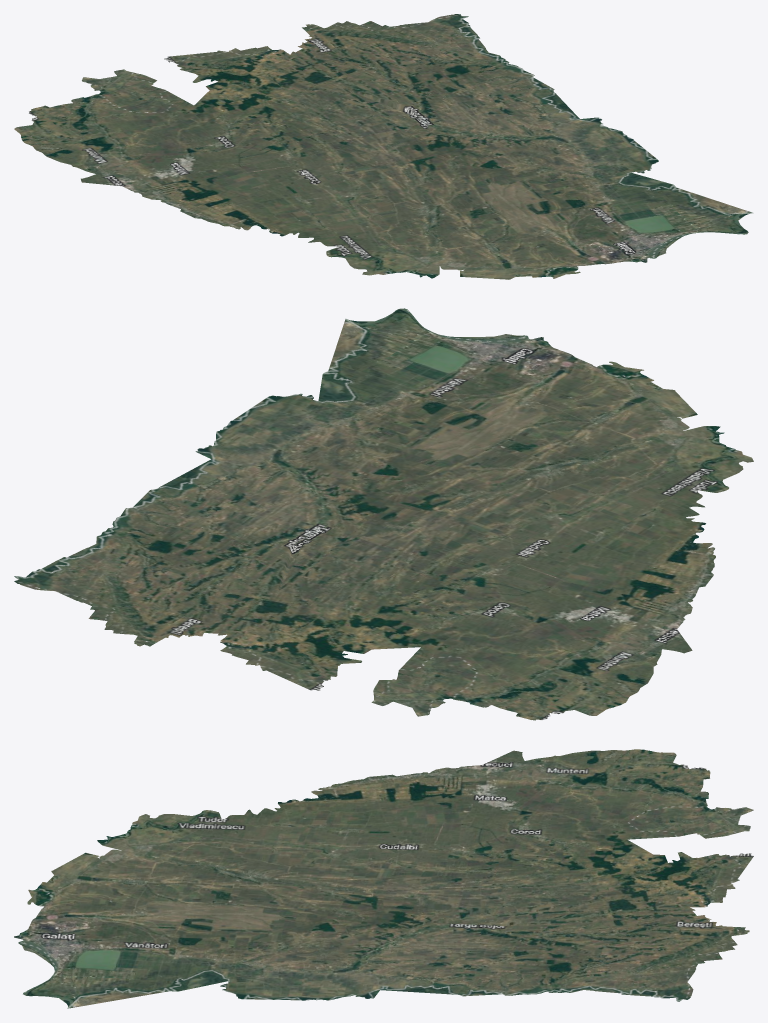
The model's file is harta galati.fbx.
The picture shows the model from 3 angles, top to bottom: view 1: azimuth 30°, elevation 25°; view 2: azimuth 150°, elevation 25°; view 3: azimuth 270°, elevation 25°; orthographic projection. The views are drawn at different scales.
Visible parts, largest first — view 1: gadm40_ROU_2.046, gadm40_ROU_2.019, gadm40_ROU_2.054, gadm40_ROU_2.032, gadm40_ROU_2.039, gadm40_ROU_2.044, gadm40_ROU_2.015, gadm40_ROU_2.040, gadm40_ROU_2.033, gadm40_ROU_2.029, gadm40_ROU_2.020, gadm40_ROU_2.047 (+47 smaller); view 2: gadm40_ROU_2.046, gadm40_ROU_2.019, gadm40_ROU_2.054, gadm40_ROU_2.032, gadm40_ROU_2.039, gadm40_ROU_2.015, gadm40_ROU_2.044, gadm40_ROU_2.033, gadm40_ROU_2.040, gadm40_ROU_2.020, gadm40_ROU_2.029, gadm40_ROU_2.047 (+47 smaller); view 3: gadm40_ROU_2.046, gadm40_ROU_2.019, gadm40_ROU_2.054, gadm40_ROU_2.032, gadm40_ROU_2.044, gadm40_ROU_2.039, gadm40_ROU_2.015, gadm40_ROU_2.033, gadm40_ROU_2.040, gadm40_ROU_2.029, gadm40_ROU_2.020, gadm40_ROU_2.001 (+47 smaller).
Boxes of the visible parts, x1,y1,x2,y2 form: gadm40_ROU_2.046: (594,173,753,262); gadm40_ROU_2.019: (301,145,424,194); gadm40_ROU_2.054: (493,172,600,246); gadm40_ROU_2.032: (117,118,241,165); gadm40_ROU_2.039: (261,182,399,236); gadm40_ROU_2.044: (501,140,658,184); gadm40_ROU_2.015: (302,21,436,77); gadm40_ROU_2.040: (391,179,510,220); gadm40_ROU_2.033: (216,89,310,145); gadm40_ROU_2.029: (14,125,139,174); gadm40_ROU_2.020: (379,14,488,59); gadm40_ROU_2.047: (298,204,408,246); gadm40_ROU_2.046: (318,308,552,411); gadm40_ROU_2.019: (412,498,569,564); gadm40_ROU_2.054: (384,369,538,463); gadm40_ROU_2.032: (443,600,609,657); gadm40_ROU_2.039: (507,486,705,543); gadm40_ROU_2.015: (88,558,215,646); gadm40_ROU_2.044: (232,393,413,462); gadm40_ROU_2.033: (338,570,492,629); gadm40_ROU_2.040: (432,437,585,498); gadm40_ROU_2.020: (14,544,153,606); gadm40_ROU_2.029: (574,630,661,715); gadm40_ROU_2.047: (553,472,704,517); gadm40_ROU_2.046: (14,927,237,1008); gadm40_ROU_2.019: (342,840,450,900); gadm40_ROU_2.054: (77,912,302,940); gadm40_ROU_2.032: (502,782,602,844); gadm40_ROU_2.044: (220,927,305,1000); gadm40_ROU_2.039: (274,798,358,870); gadm40_ROU_2.015: (573,925,749,963); gadm40_ROU_2.033: (478,837,628,878); gadm40_ROU_2.040: (221,862,317,917); gadm40_ROU_2.029: (501,749,676,784); gadm40_ROU_2.020: (581,954,698,1001); gadm40_ROU_2.001: (453,900,610,927).
Size of the model in its own units: 2049704 by 24091 by 2469367.
1 material, 1 textured.
